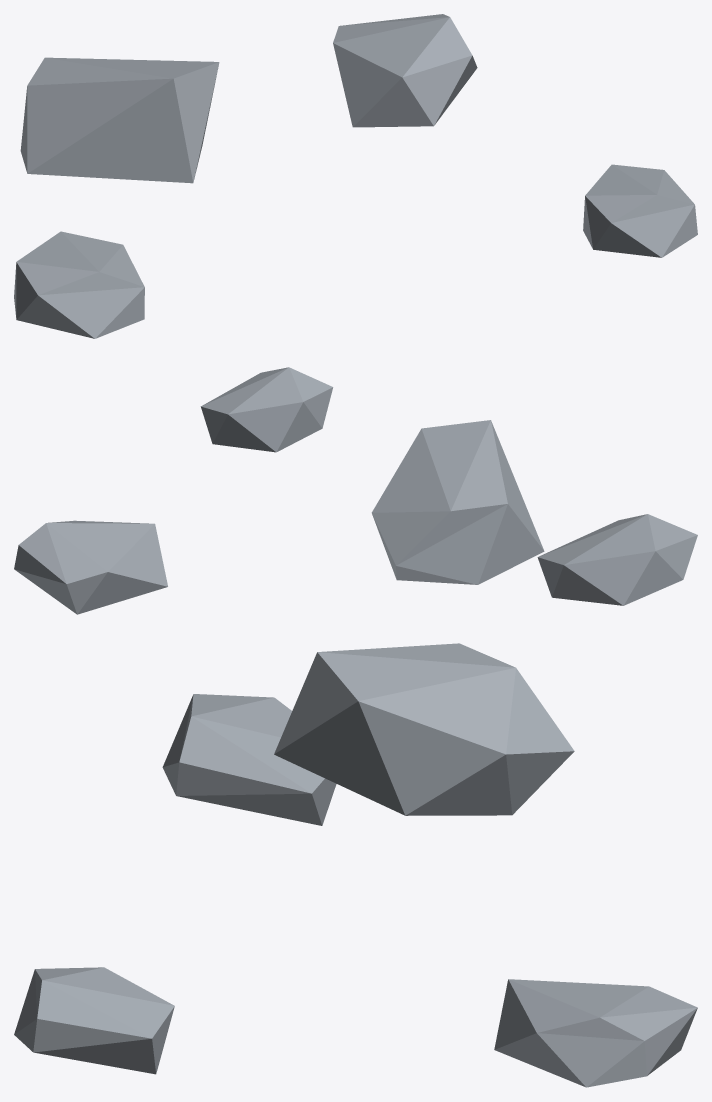
Rendered from Rune_02_rock.FBX.
3 renders of one model, top to bottom at view 1: azimuth 30°, elevation 25°; view 2: azimuth 150°, elevation 25°; view 3: azimuth 270°, elevation 25°, orthographic. The views are drawn at different scales.
Visible parts, largest first — view 1: Rune_02_rock; view 2: Rune_02_rock; view 3: Rune_02_rock.
Part boxes in pixels (left/top/right/bottom): Rune_02_rock: left=14, top=14, right=697, bottom=338; Rune_02_rock: left=14, top=367, right=697, bottom=614; Rune_02_rock: left=14, top=643, right=697, bottom=1087.
Size of the model in its own units: 47.04 by 14.54 by 40.15.
